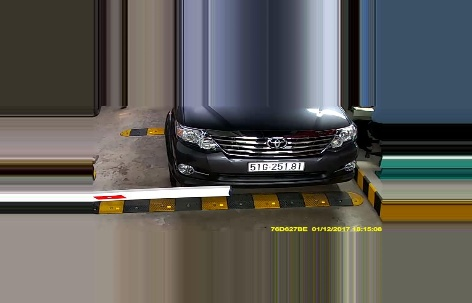plate: (247, 160, 305, 172)
